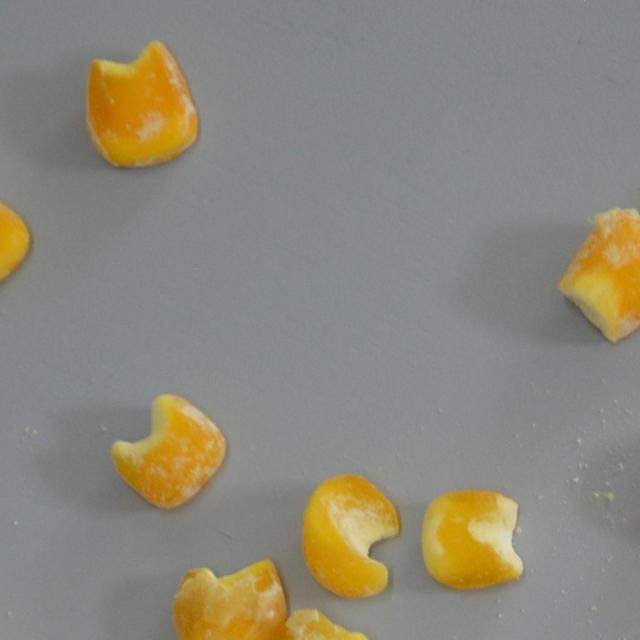no_canjicado: (420, 488, 524, 590), (0, 180, 31, 294)
pelicula: (86, 40, 198, 170), (110, 392, 226, 510), (300, 470, 400, 600), (556, 207, 640, 342), (168, 556, 288, 640), (255, 606, 379, 640)
